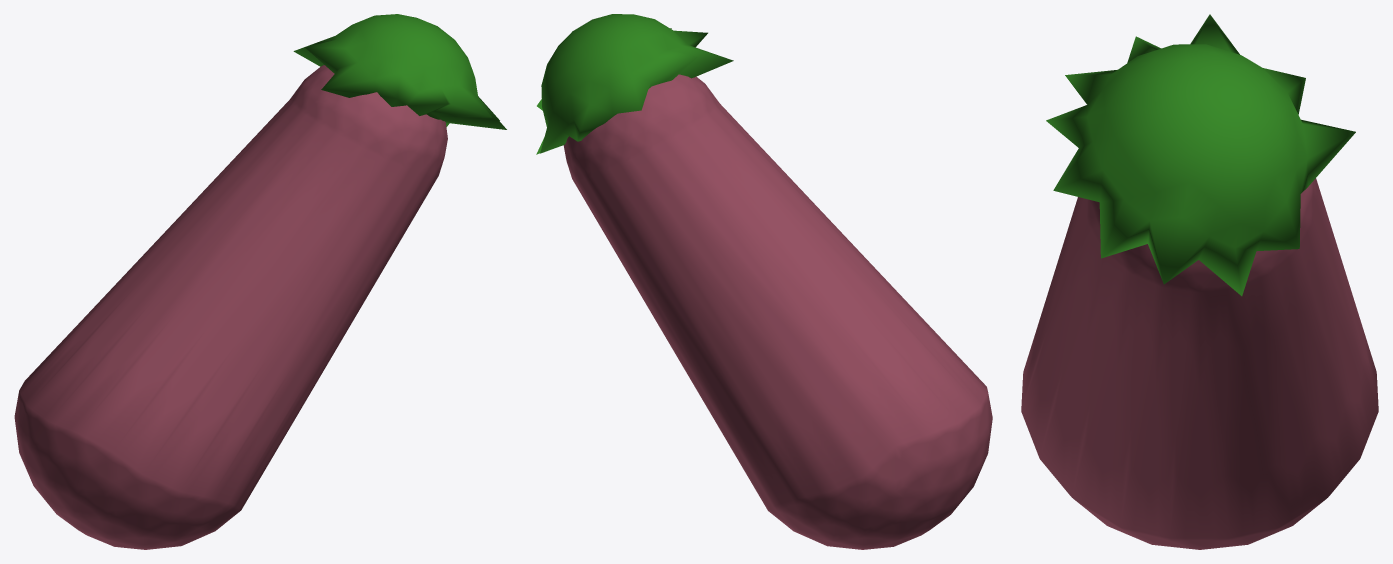
Rendered from baklazan.fbx.
The picture shows the model from 3 angles, left to right: view 1: azimuth 30°, elevation 25°; view 2: azimuth 150°, elevation 25°; view 3: azimuth 270°, elevation 25°; orthographic projection. The views are drawn at different scales.
Visible parts, largest first — view 1: baklazan, ку; view 2: baklazan, ку; view 3: baklazan, ку.
Boxes of the visible parts, x1,y1,x2,y2 form: baklazan: (14, 65, 447, 549); ку: (293, 14, 506, 129); baklazan: (563, 74, 992, 549); ку: (536, 14, 733, 154); baklazan: (1021, 178, 1378, 549); ку: (1046, 14, 1355, 296).
Bounding box in the file's own units: 199 × 192 × 96.19.
